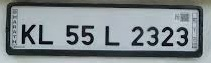numberplate: (7, 3, 202, 55)
